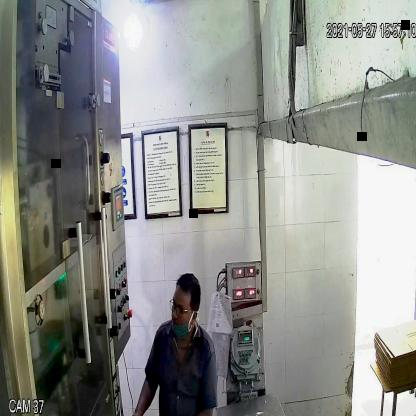goggles: (167, 294, 198, 320)
